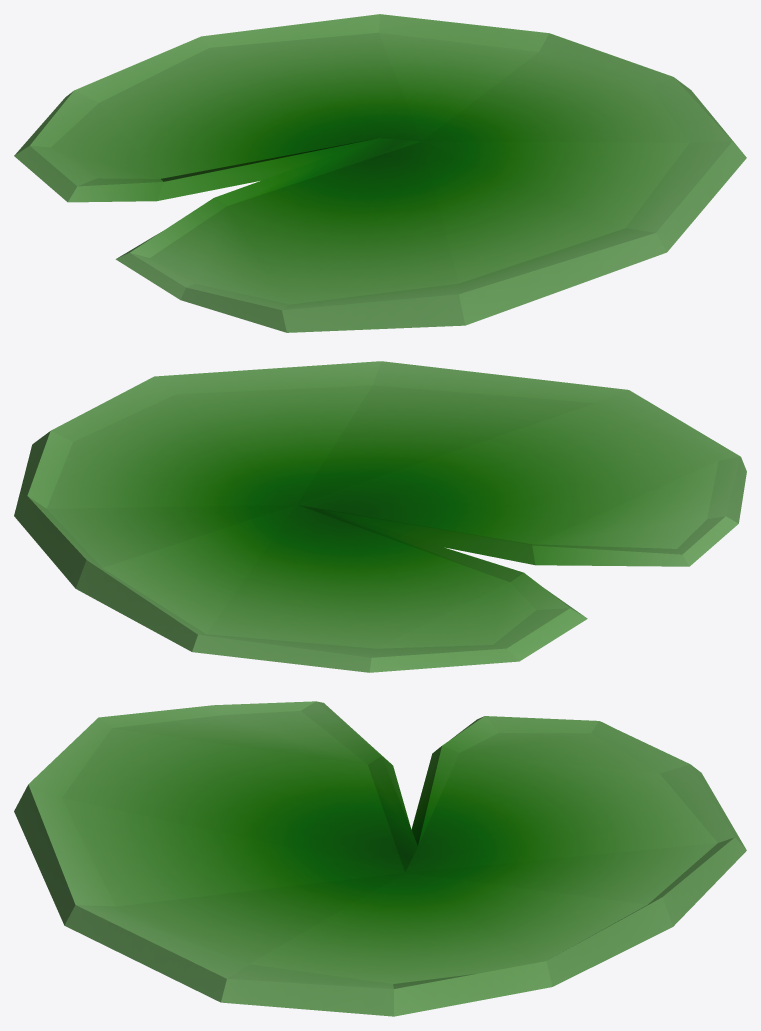
Rendered from PondPad-03.FBX.
3 views of the same model, one above another, from view 1: azimuth 30°, elevation 25°; view 2: azimuth 150°, elevation 25°; view 3: azimuth 270°, elevation 25° (orthographic). The views are drawn at different scales.
Visible parts, largest first — view 1: PondPad-03; view 2: PondPad-03; view 3: PondPad-03.
Boxes of the visible parts, x1,y1,x2,y2 form: PondPad-03: [14, 14, 746, 332]; PondPad-03: [14, 361, 746, 672]; PondPad-03: [14, 701, 746, 1016].
Size of the model in its own units: 76.08 by 3.34 by 76.2.
Materials: 1 (1 with a texture image).
